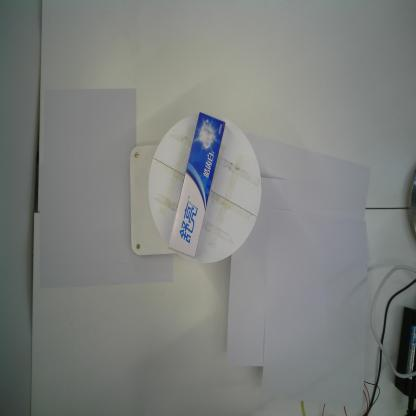Personal Hygiene: (168, 112, 226, 258)
